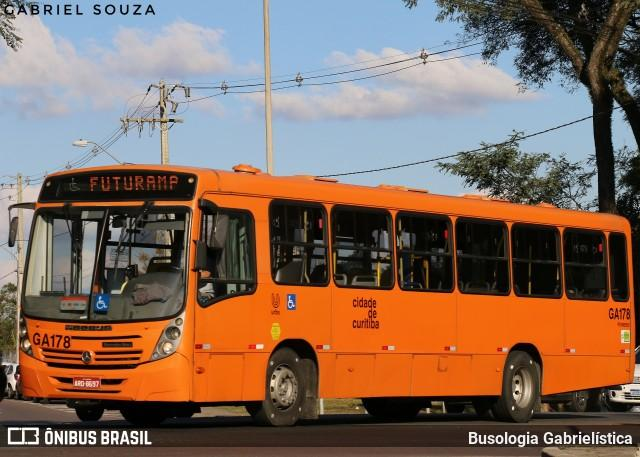FUTURAMA: (84, 170, 184, 196)
